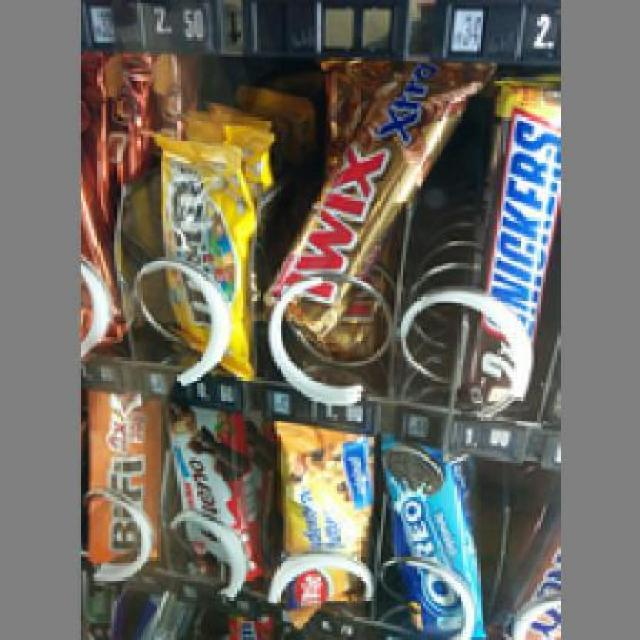Chocolate bar: (264, 67, 468, 330), (463, 80, 557, 406), (266, 417, 371, 617), (160, 403, 254, 577)
Merendine: (377, 437, 480, 637)
